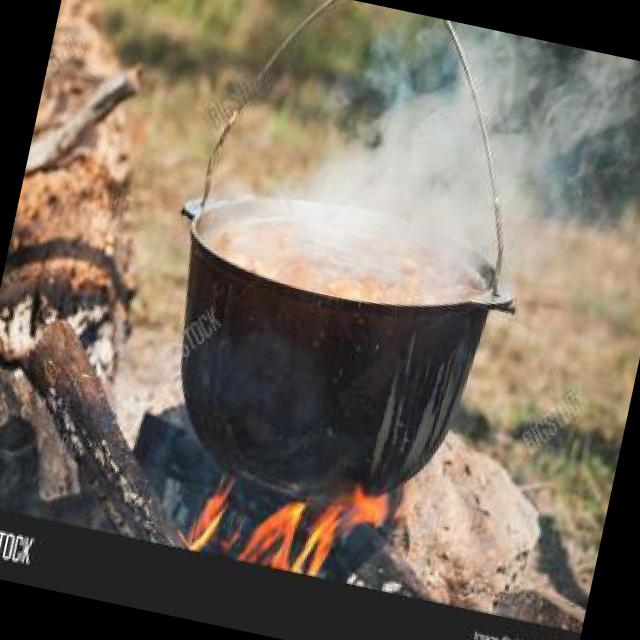Fire: (172, 452, 402, 618)
Smoke: (283, 0, 640, 294)
